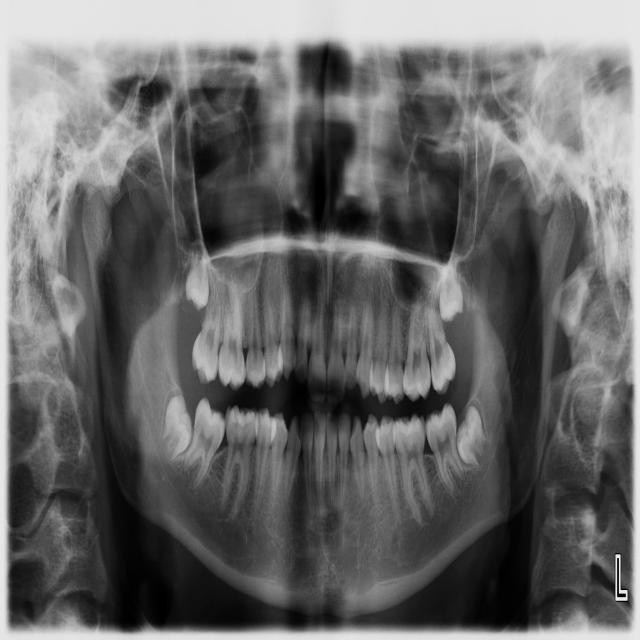mandibula: (81, 185, 575, 611)
